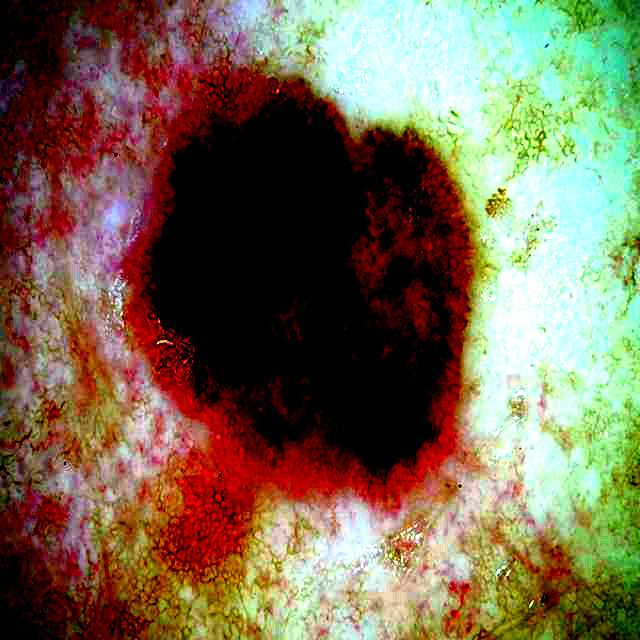MEL: (144, 87, 468, 480)
